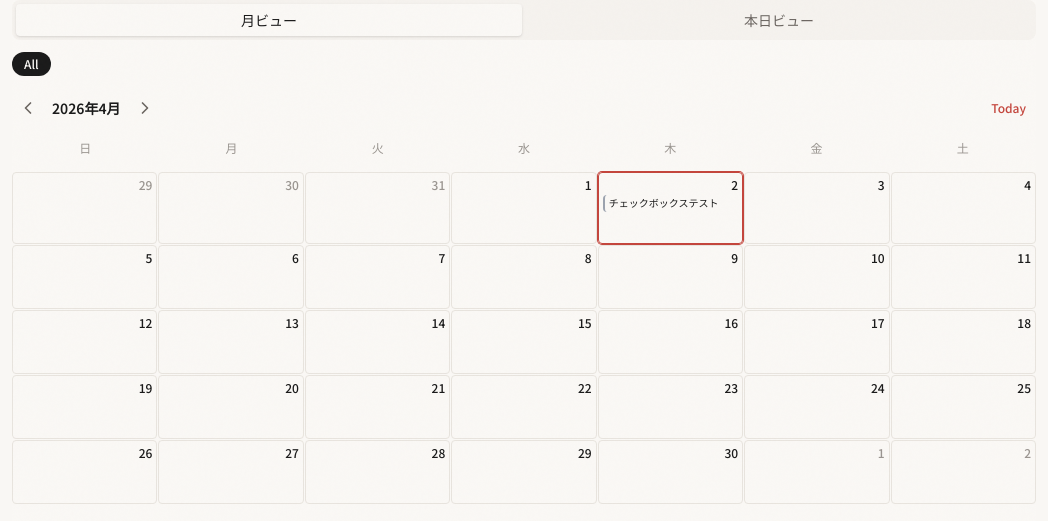
Test case: CalendarPage - Today View Tab › should render a checkbox for each todo in today view
Click the button with test id "tab-today-view". click: (779, 20)
box: [526,4,1032,36]
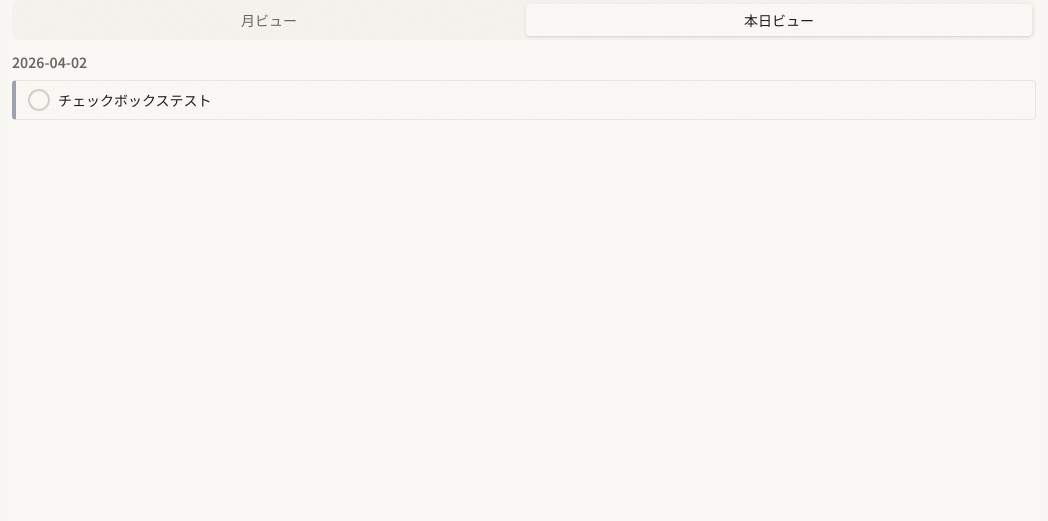
Result: the checkbox with test id "today-todo-checkbox-todo-cb" is shown at [28,89,50,111]
